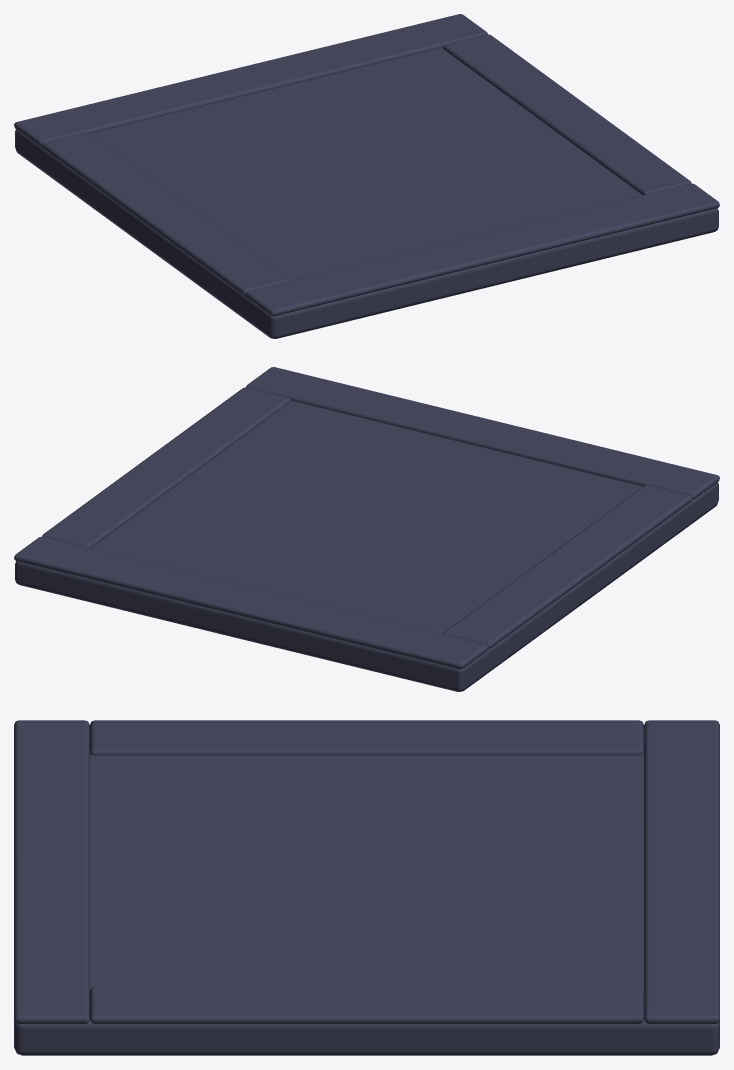
File: floor.framed.glb
The picture shows the model from 3 angles, top to bottom: view 1: azimuth 30°, elevation 25°; view 2: azimuth 150°, elevation 25°; view 3: azimuth 270°, elevation 25°; orthographic projection. The views are drawn at different scales.
Parts seen in each view (by area): view 1: floor.framed; view 2: floor.framed; view 3: floor.framed.
Boxes of the visible parts, <box> form: floor.framed: <box>14,14,719,338</box>; floor.framed: <box>14,367,719,691</box>; floor.framed: <box>14,720,719,1055</box>.
Bounding box in the file's own units: 0.968 × 0.064 × 0.968.
